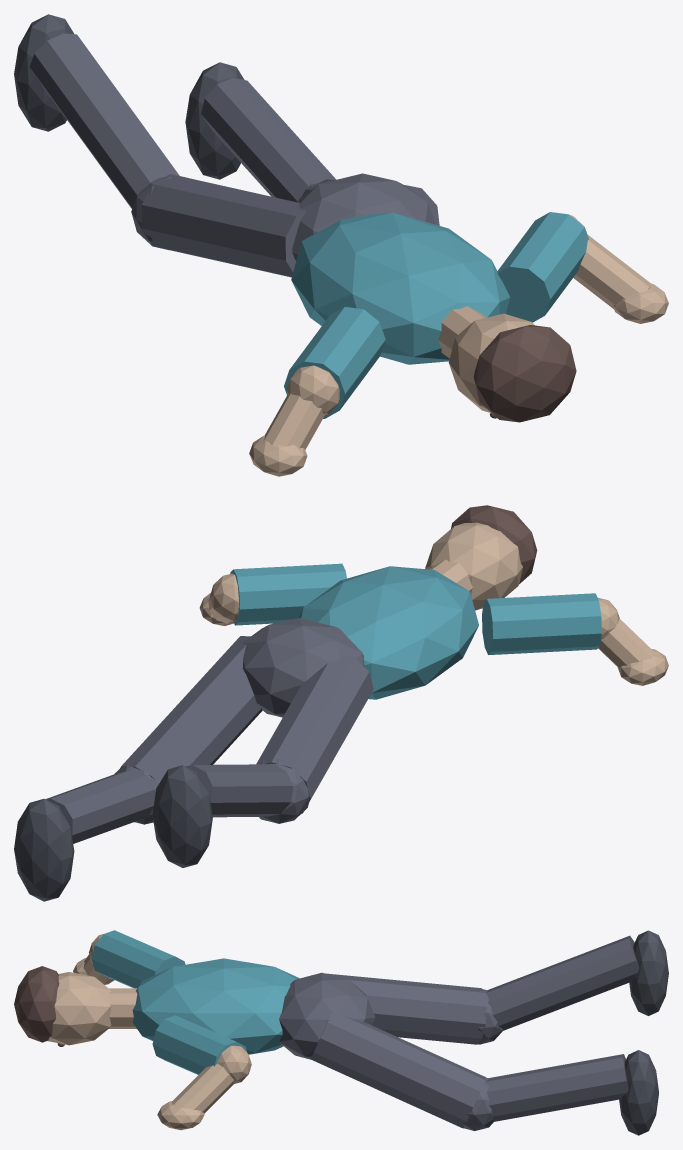
The picture shows the model from 3 angles, top to bottom: view 1: azimuth 30°, elevation 25°; view 2: azimuth 150°, elevation 25°; view 3: azimuth 270°, elevation 25°; orthographic projection. The views are drawn at different scales.
Parts seen in each view (by area): view 1: world; view 2: world; view 3: world.
Boxes of the visible parts, x1,y1,x2,y2 form: world: (14,14,668,476); world: (14,505,668,901); world: (14,930,668,1135).
Size of the model in its own units: 1.25 by 0.5125 by 2.07.
